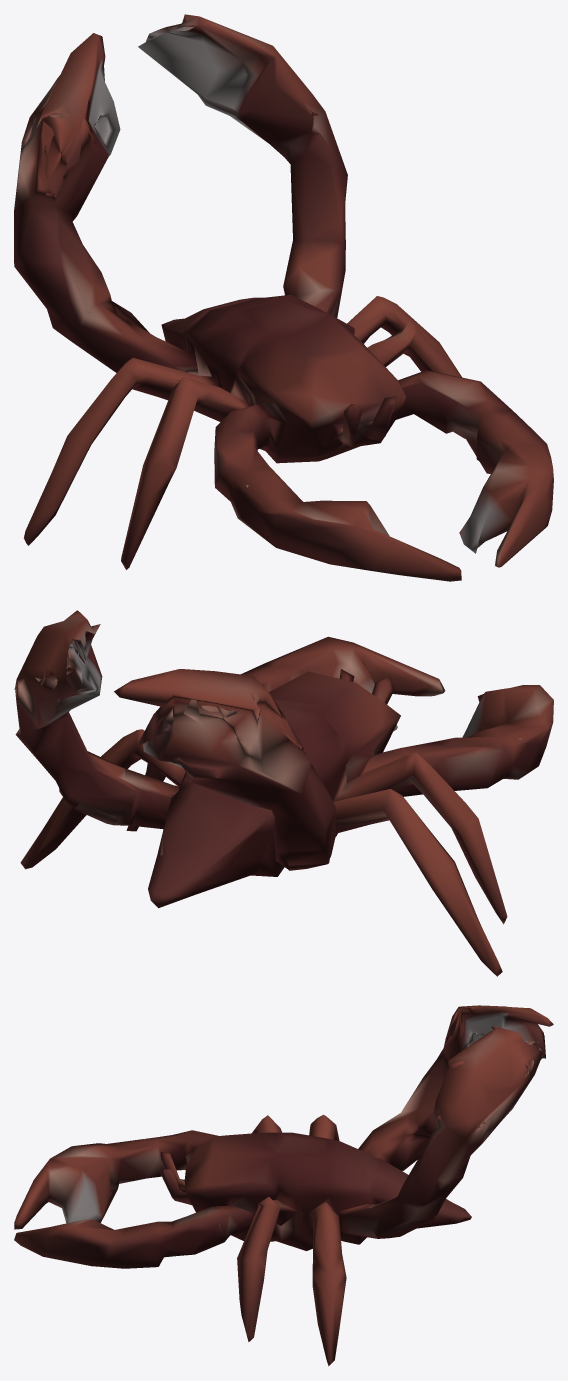
The model's file is gen3d-scorpion-lod0.glb.
3 renders of one model, top to bottom at view 1: azimuth 30°, elevation 25°; view 2: azimuth 150°, elevation 25°; view 3: azimuth 270°, elevation 25°, orthographic. The views are drawn at different scales.
Parts seen in each view (by area): view 1: part_0; view 2: part_0; view 3: part_0.
Part boxes in pixels (left/top/right/bottom): part_0: left=14, top=14, right=553, bottom=581; part_0: left=14, top=610, right=553, bottom=976; part_0: left=14, top=1005, right=553, bottom=1366.
Bounding box in the file's own units: 1.32 × 0.999 × 1.77.
